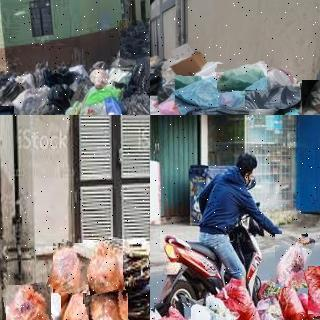Garbage: (81, 239, 125, 305), (260, 266, 308, 320), (271, 232, 312, 290), (50, 241, 91, 295), (211, 276, 261, 320), (175, 76, 245, 107), (3, 283, 53, 320), (216, 63, 268, 92), (118, 18, 150, 65), (60, 283, 98, 320), (179, 297, 239, 320), (86, 291, 130, 320), (255, 293, 288, 320), (130, 55, 150, 95), (305, 264, 320, 315), (154, 303, 191, 320), (150, 73, 163, 101)
